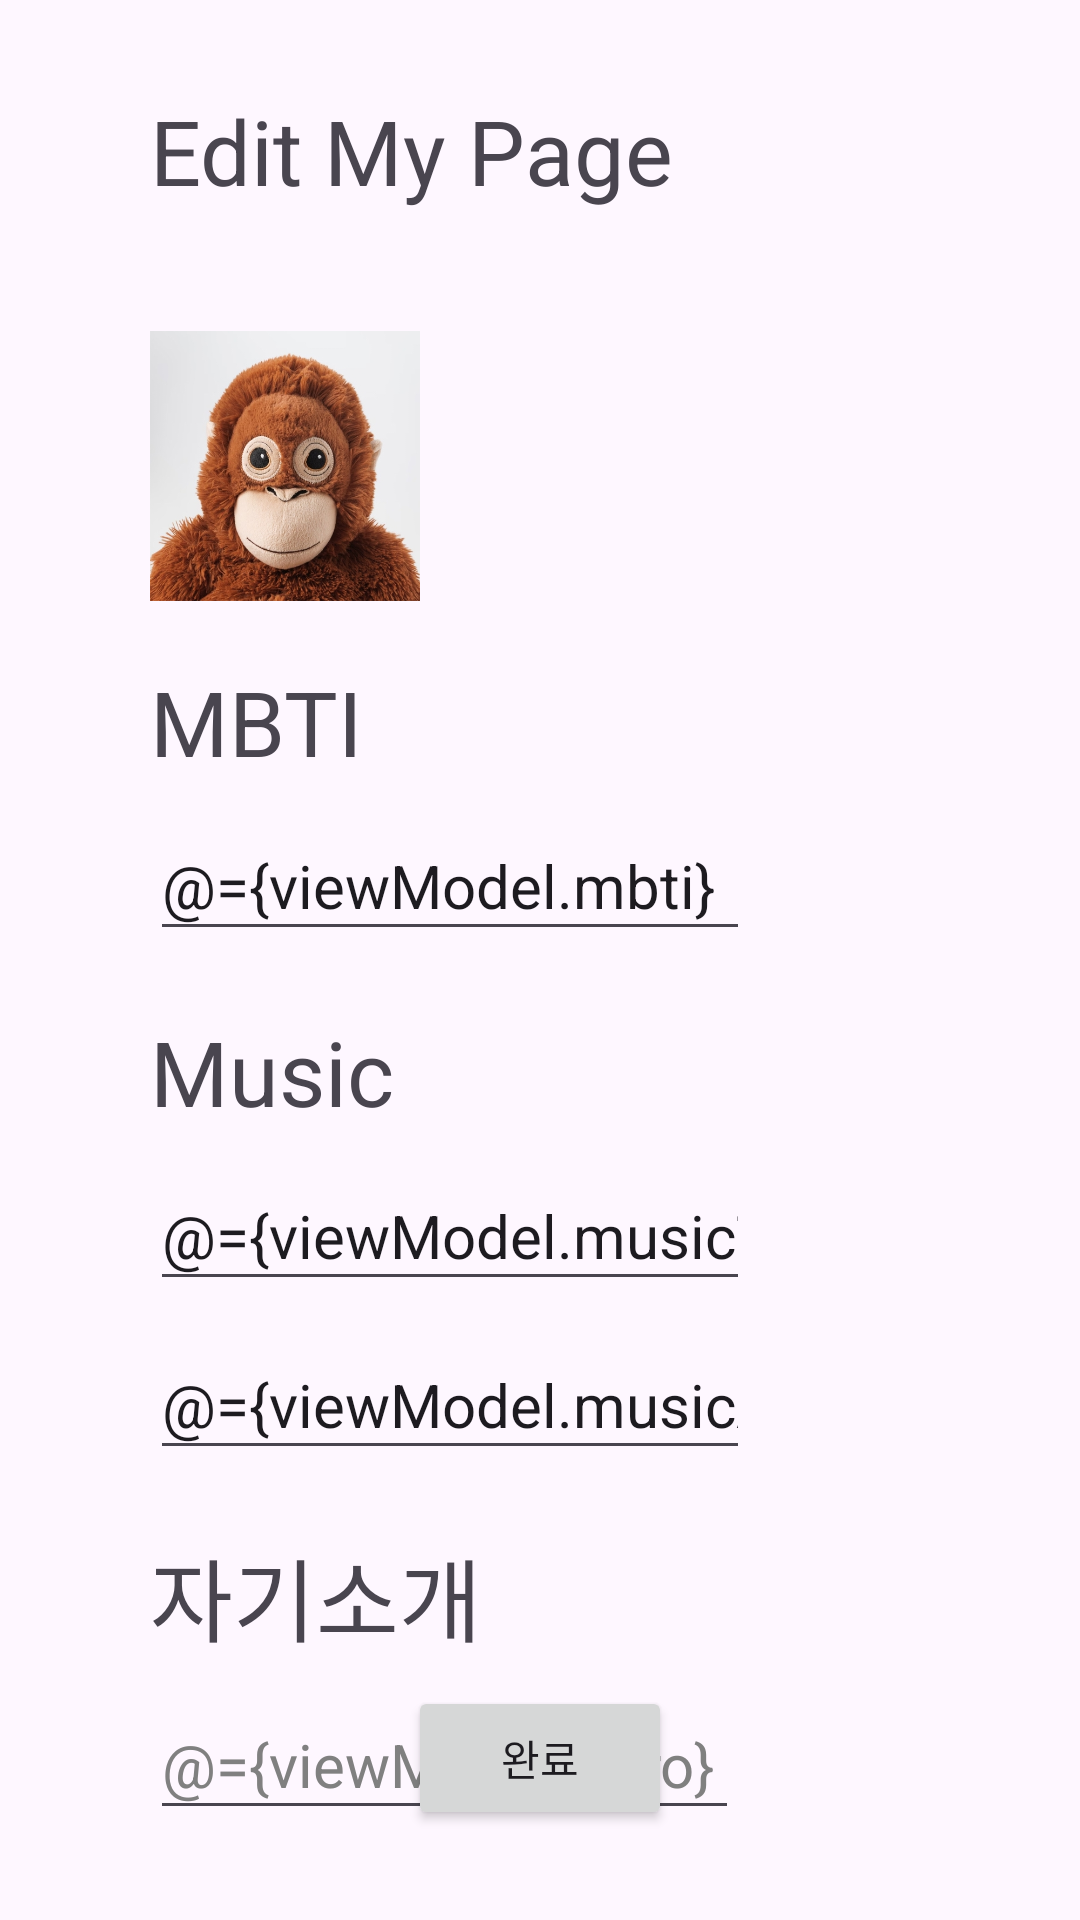

Point at icon controls on the screen. Image size 1080 x 1920, points as (x=x, y=y).
monkey: (x=285, y=466)
